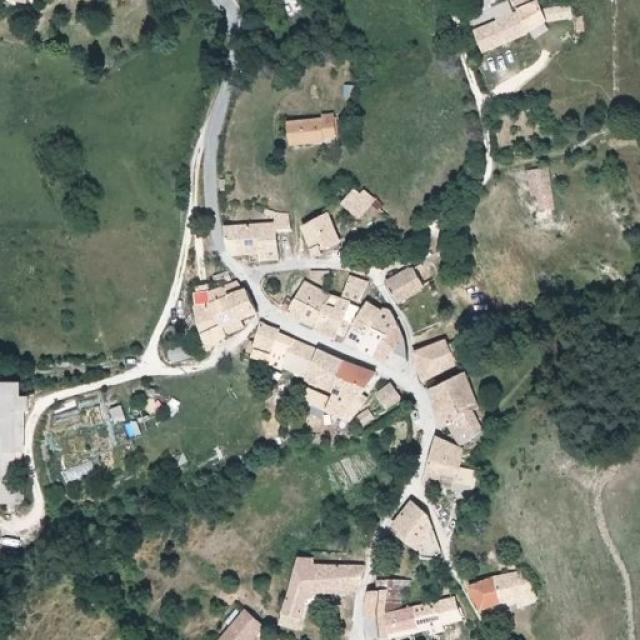maison: (455, 1, 576, 55), (288, 552, 352, 624), (187, 282, 250, 354), (370, 585, 459, 635), (388, 490, 446, 562), (426, 366, 480, 435), (217, 217, 288, 266), (459, 574, 545, 611), (352, 306, 402, 366), (327, 361, 365, 428), (424, 435, 471, 489), (303, 336, 339, 398), (275, 119, 344, 147), (281, 274, 322, 320), (296, 218, 346, 254), (248, 318, 284, 368), (304, 294, 344, 337), (412, 343, 461, 376), (280, 335, 312, 384), (336, 187, 382, 219), (380, 268, 424, 298), (344, 270, 368, 302)
piscine: (114, 417, 144, 441)
